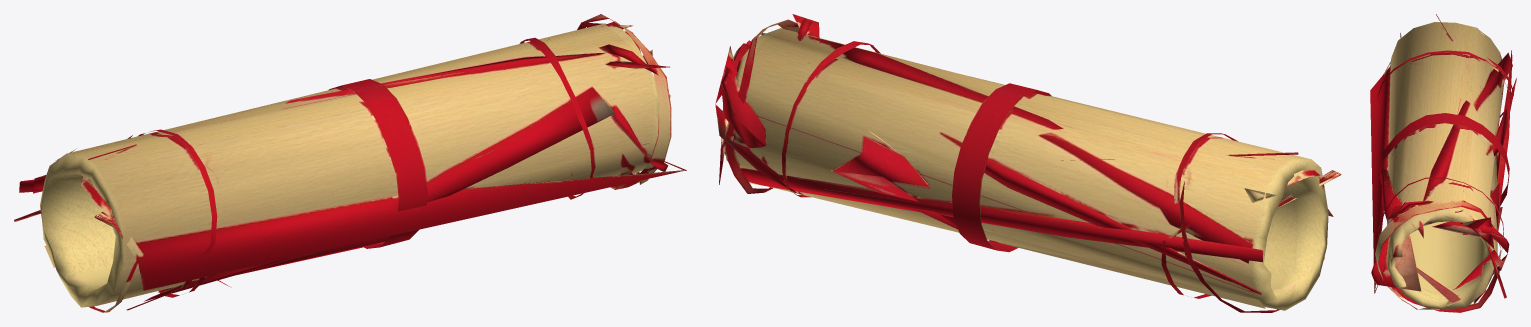
Rendered from fields-haybale.glb.
3 views of the same model, side by side, from view 1: azimuth 30°, elevation 25°; view 2: azimuth 150°, elevation 25°; view 3: azimuth 270°, elevation 25° (orthographic). The views are drawn at different scales.
Bounding box in the file's own units: 0.9565 × 0.2583 × 0.2895.
1 material, 1 textured.
